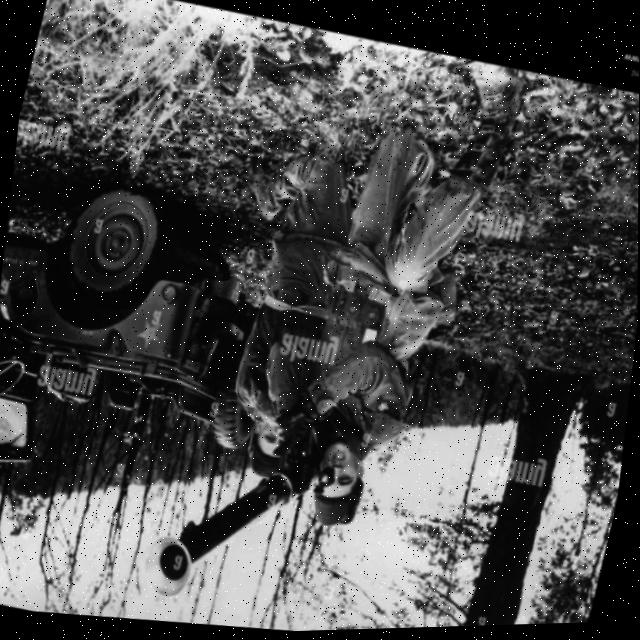rocket: (148, 436, 311, 631)
